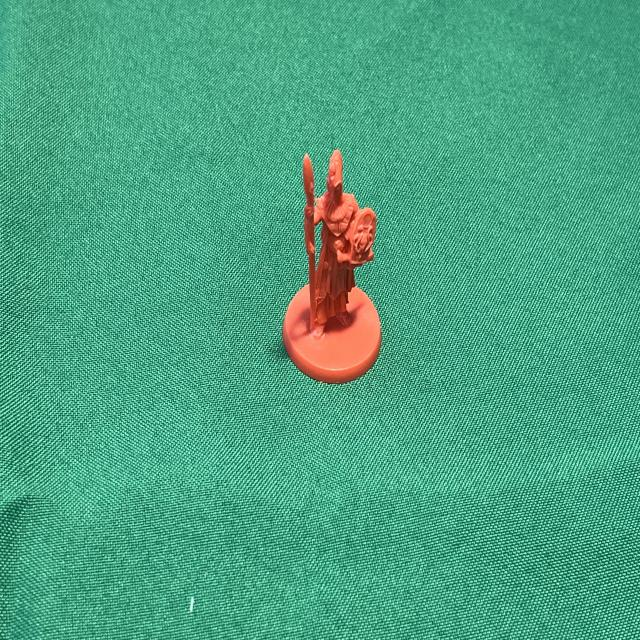amon_follower: (282, 150, 381, 383)
